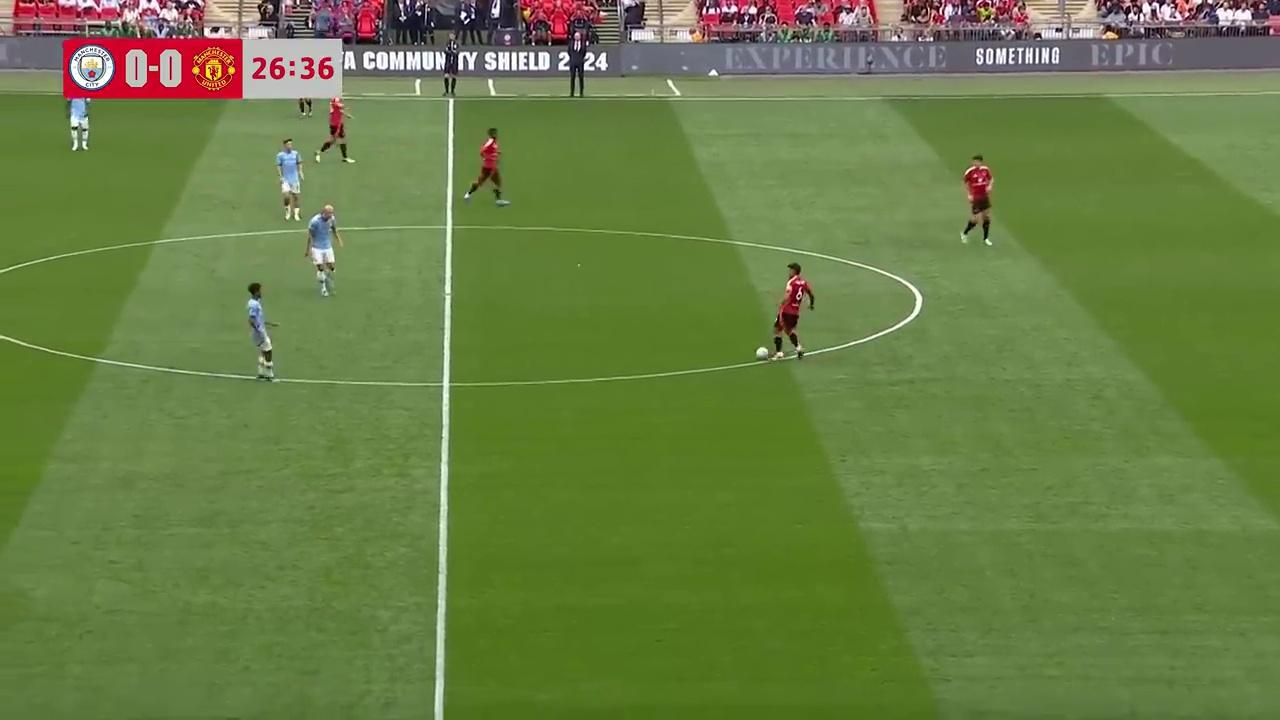ball: (754, 343, 770, 361)
player: (764, 262, 814, 362), (302, 203, 344, 297), (463, 128, 510, 207), (245, 282, 278, 383), (960, 153, 994, 247), (316, 93, 353, 162), (274, 137, 304, 221), (64, 87, 90, 151)
